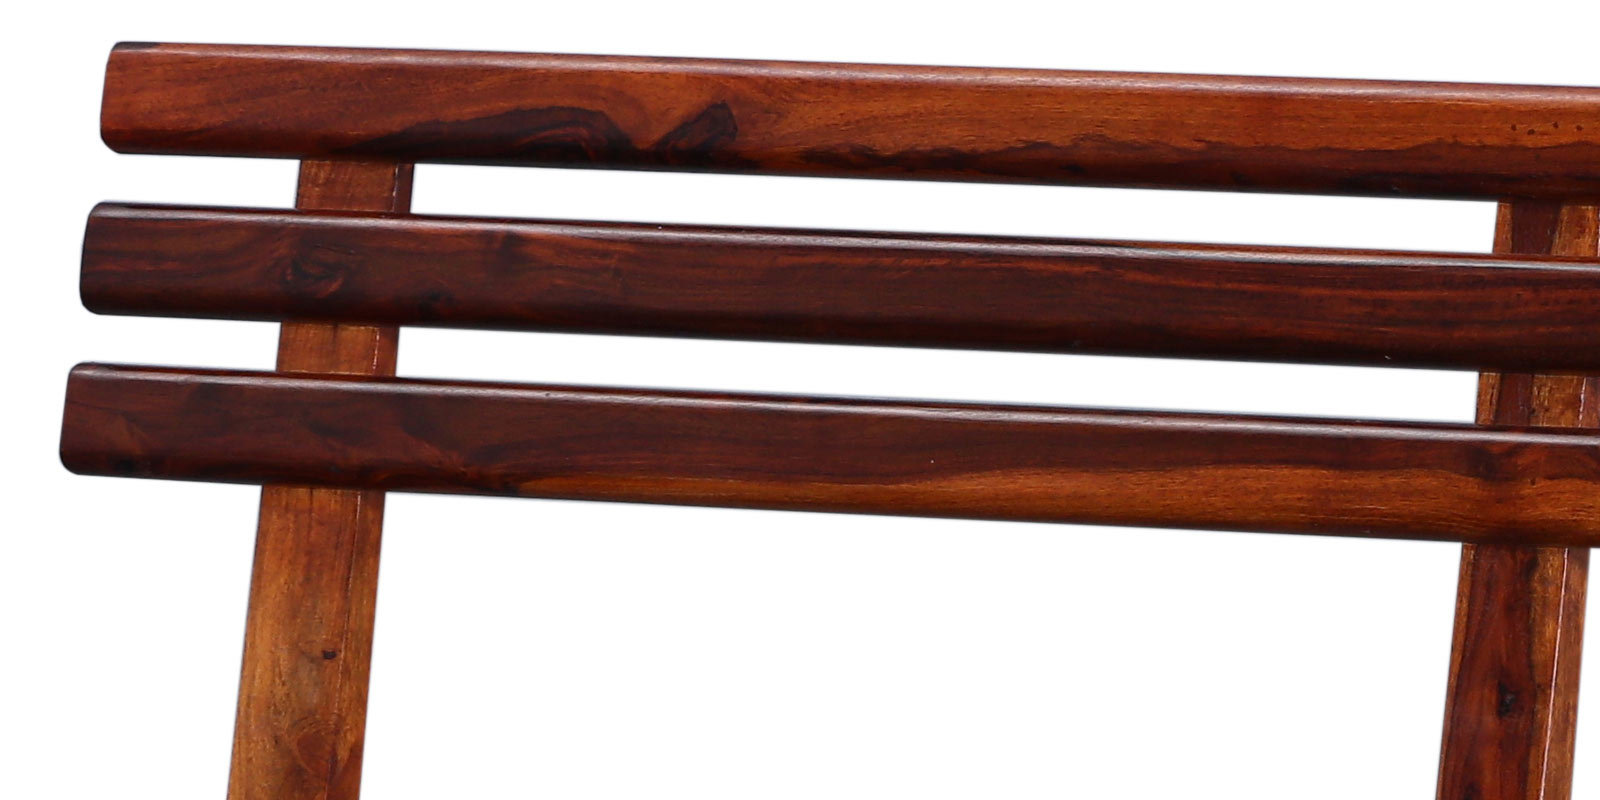Hayden Three Seater Sofa in Honey Oak Finish by Bohemiana: (43, 14, 1599, 797)
